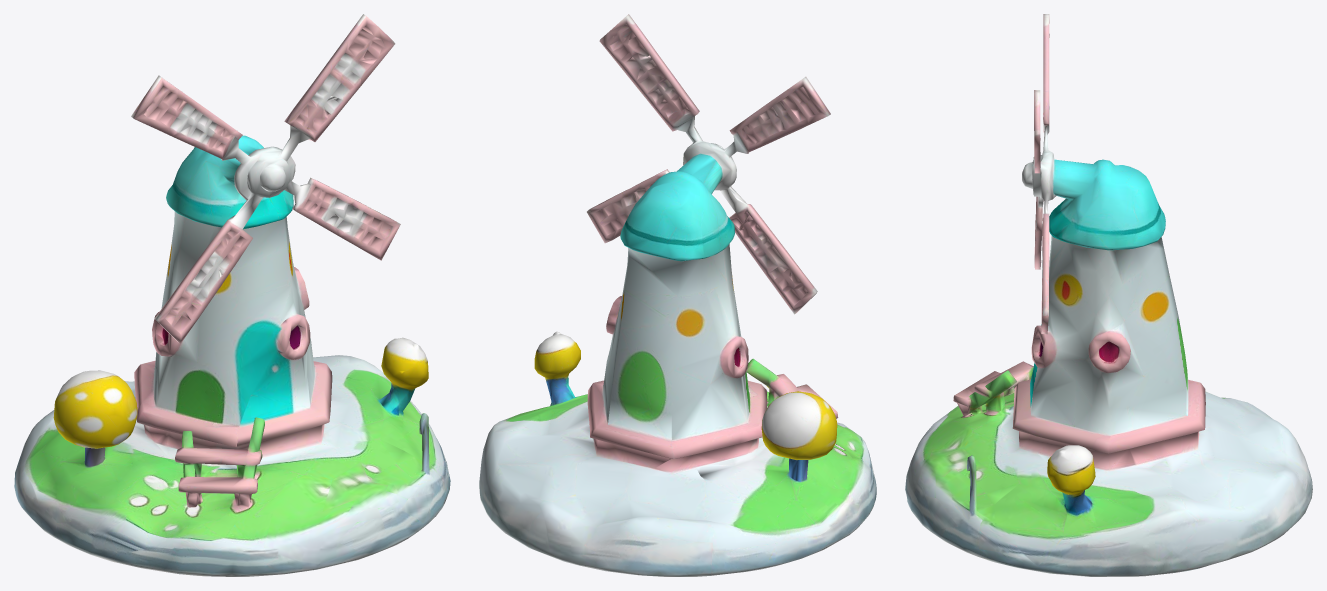
Rendered from windmill.glb.
The picture shows the model from 3 angles, left to right: view 1: azimuth 30°, elevation 25°; view 2: azimuth 150°, elevation 25°; view 3: azimuth 270°, elevation 25°; orthographic projection. The views are drawn at different scales.
Parts seen in each view (by area): view 1: Mesh_0.001, Mesh_0.002; view 2: Mesh_0.001, Mesh_0.002; view 3: Mesh_0.001, Mesh_0.002.
Boxes of the visible parts, x1,y1,x2,y2 form: Mesh_0.001: (14, 135, 450, 576); Mesh_0.002: (131, 14, 400, 343); Mesh_0.001: (479, 153, 876, 576); Mesh_0.002: (587, 14, 830, 314); Mesh_0.001: (905, 159, 1312, 576); Mesh_0.002: (1022, 14, 1056, 334).
Bounding box in the file's own units: 1.58 × 1.91 × 1.58.
1 material, 1 textured.
